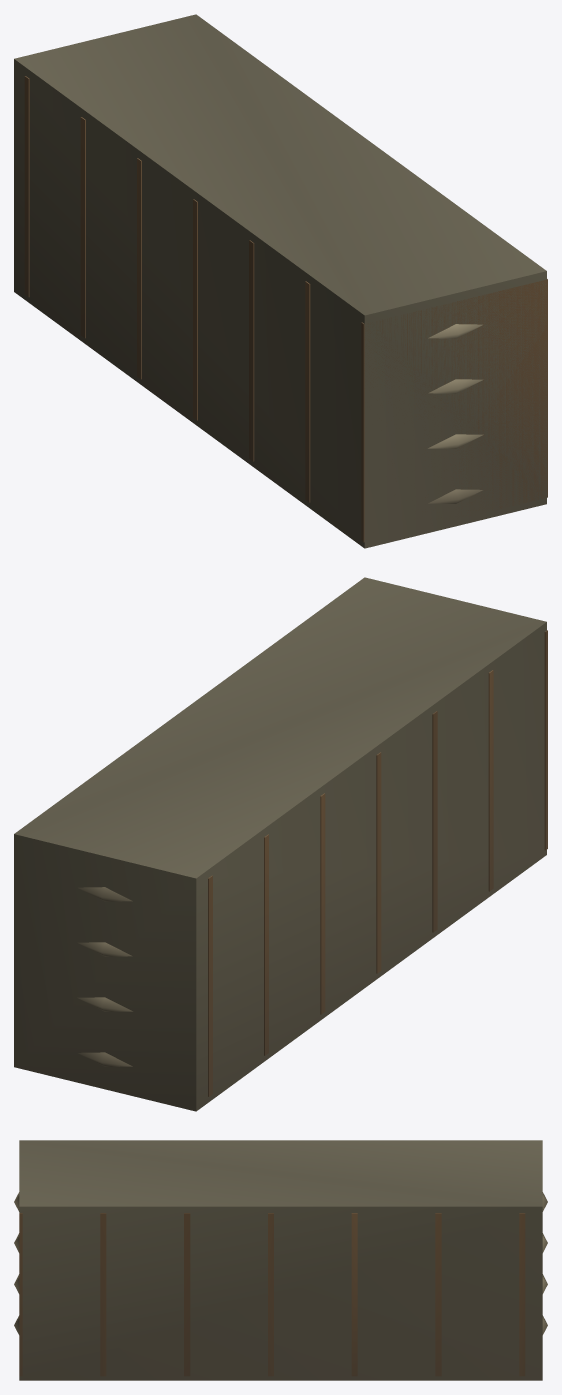
The model's file is m01_forward_post_intact_lod0.glb.
3 views of the same model, one above another, from view 1: azimuth 30°, elevation 25°; view 2: azimuth 150°, elevation 25°; view 3: azimuth 270°, elevation 25° (orthographic). The views are drawn at different scales.
Visible parts, largest first — view 1: forward_post; view 2: forward_post; view 3: forward_post.
Boxes of the visible parts, box(x1,y1,x2,y2) form: forward_post: box(14, 14, 547, 548); forward_post: box(14, 577, 547, 1111); forward_post: box(14, 1140, 547, 1380).
Size of the model in its own units: 0.91 by 1.1 by 3.06.
